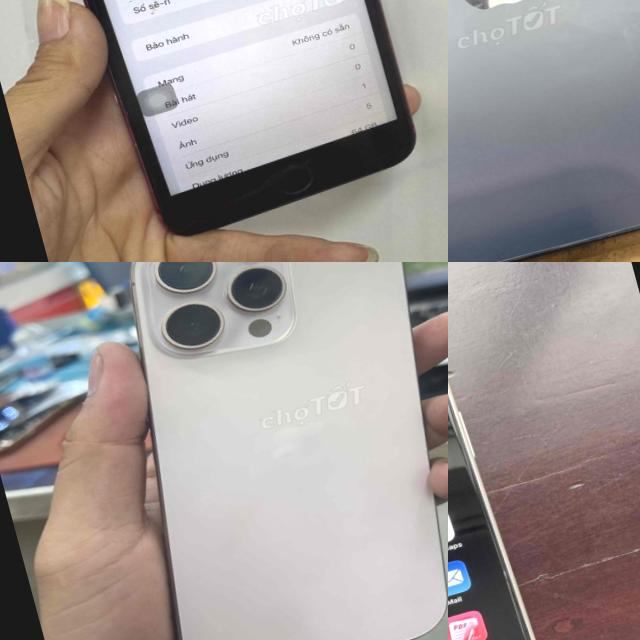gen_11: (448, 306, 586, 640)
gen_14: (448, 0, 640, 262)
gen_16: (130, 262, 446, 640)
gen_7_8: (13, 0, 433, 254)
